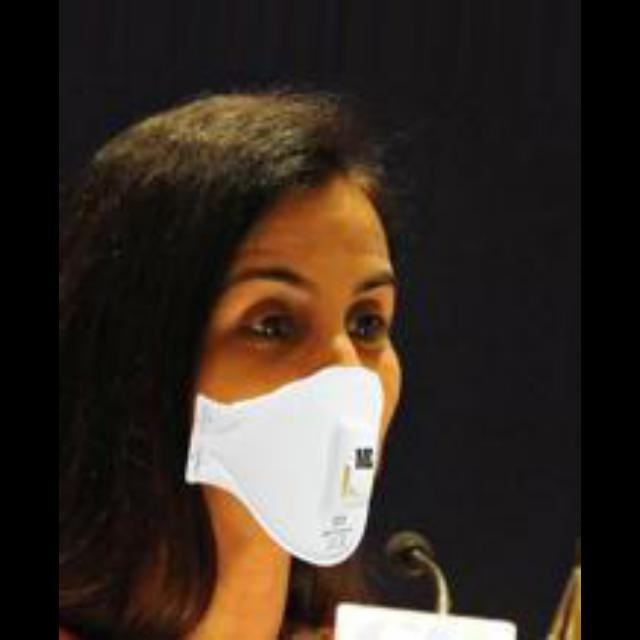suspicion: (128, 134, 404, 554)
